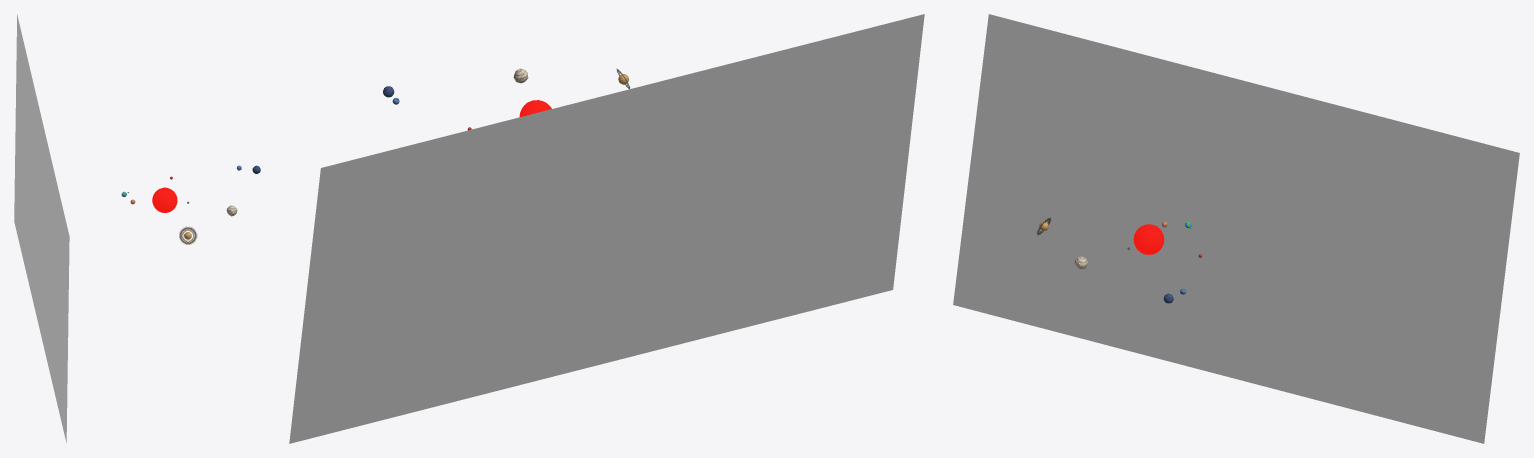
File: Space.glb
3 renders of one model, left to right at view 1: azimuth 30°, elevation 25°; view 2: azimuth 150°, elevation 25°; view 3: azimuth 270°, elevation 25°, orthographic. The views are drawn at different scales.
Parts seen in each view (by area): view 1: Space, Sun; view 2: Space; view 3: Space, Sun.
Boxes of the visible parts, x1,y1,x2,y2 form: Space: (14, 14, 69, 442); Sun: (152, 187, 177, 212); Space: (289, 14, 924, 443); Space: (953, 14, 1519, 443); Sun: (1133, 224, 1164, 254).
Size of the model in its own units: 138 by 93.47 by 174.
